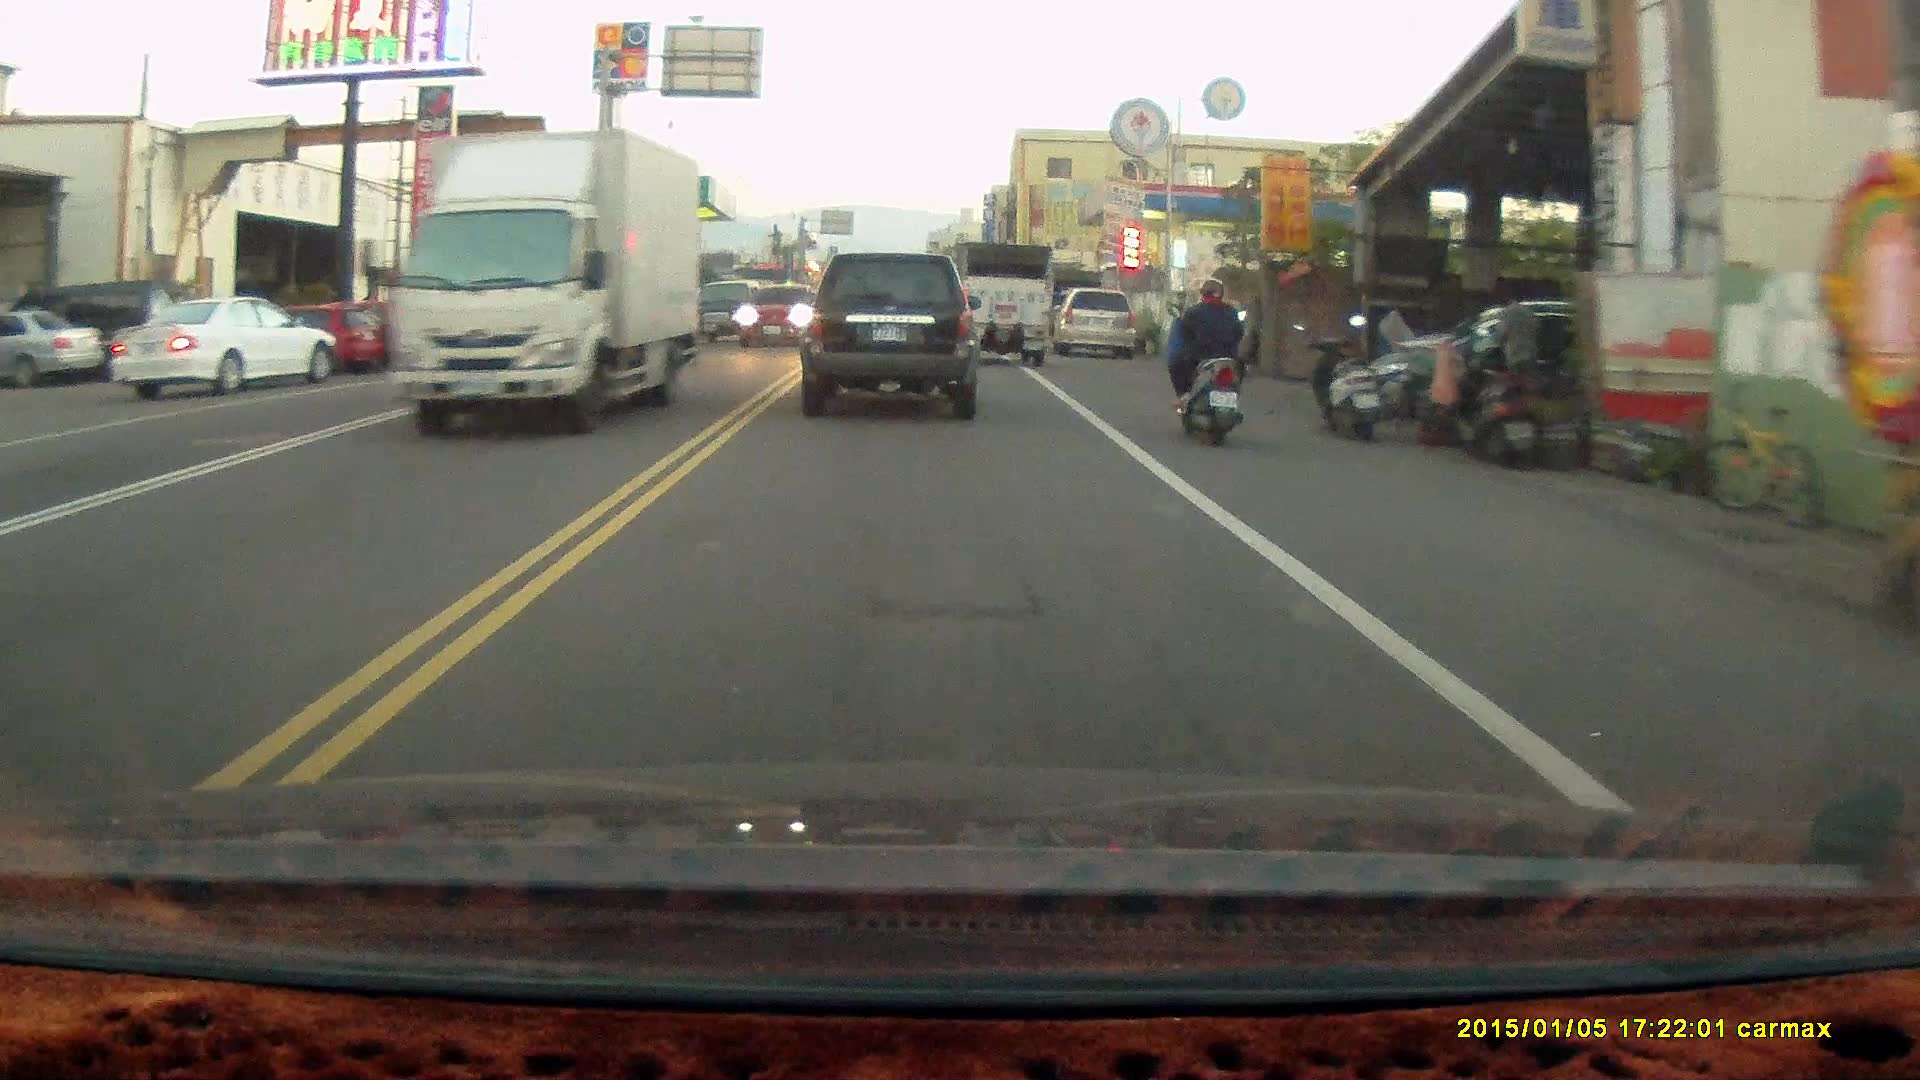pedestrian: (1491, 284, 1542, 420)
rider: (1162, 274, 1249, 448)
vehicle: (396, 126, 711, 443), (795, 248, 980, 419), (112, 299, 338, 402), (960, 237, 1053, 364), (1, 304, 108, 384), (733, 282, 820, 352), (1057, 284, 1136, 359)
